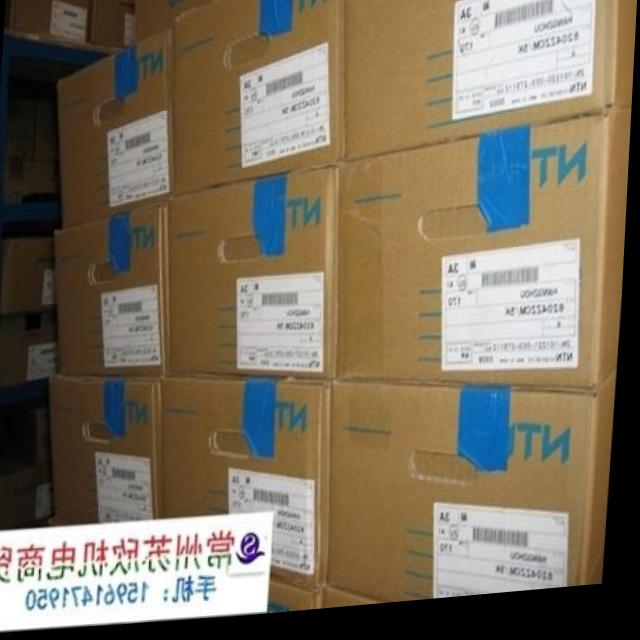box: (340, 120, 633, 402), (332, 382, 621, 611), (343, 0, 638, 167), (164, 379, 339, 599), (170, 172, 341, 385), (170, 0, 345, 198), (57, 30, 173, 229), (57, 205, 170, 379), (52, 377, 167, 526), (1, 310, 60, 386), (5, 238, 58, 313), (11, 0, 92, 42), (133, 0, 215, 40)
